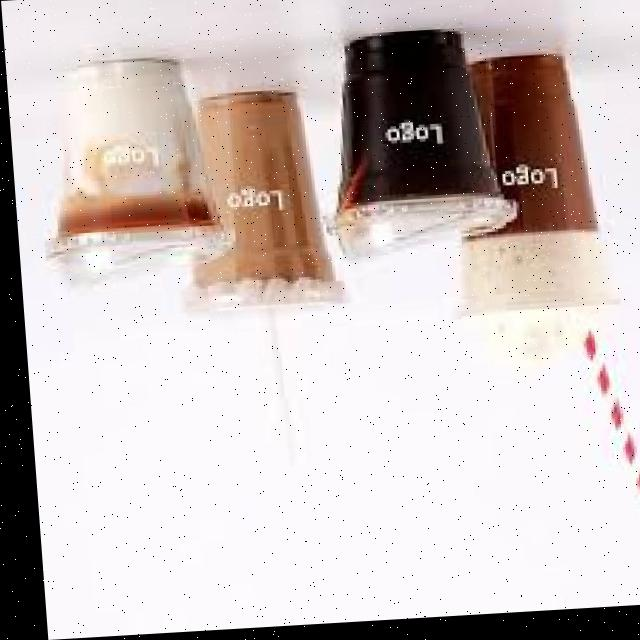cup: (332, 37, 512, 262), (456, 64, 612, 318), (45, 64, 218, 284), (181, 98, 336, 311)
